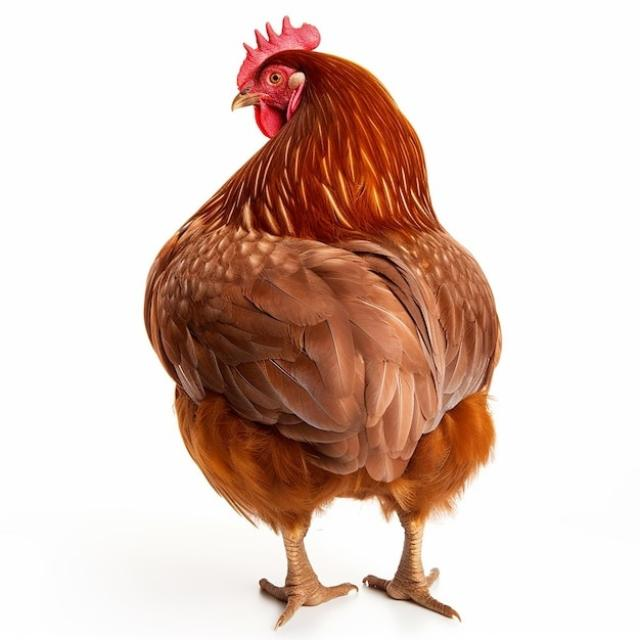Chicken: (143, 16, 503, 626)
